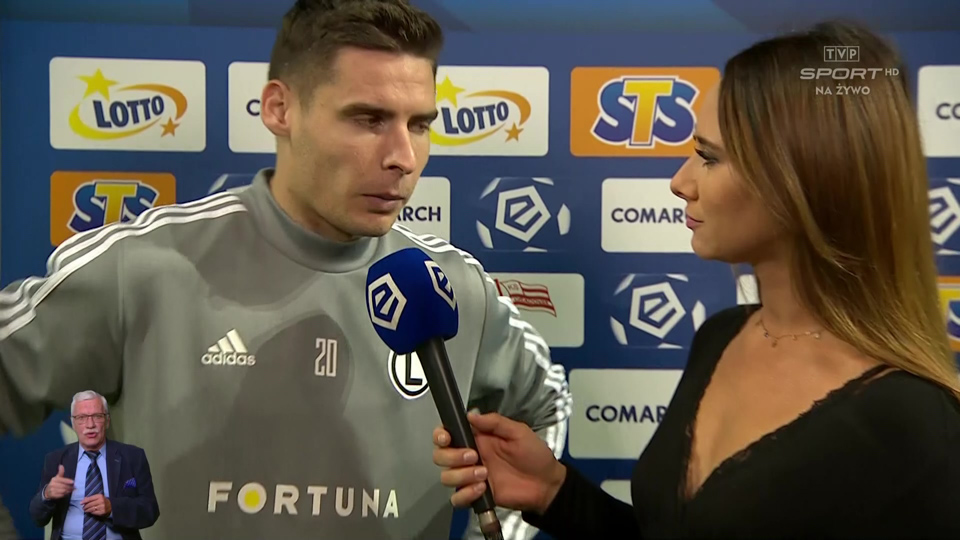Adidas: (203, 327, 258, 368)
